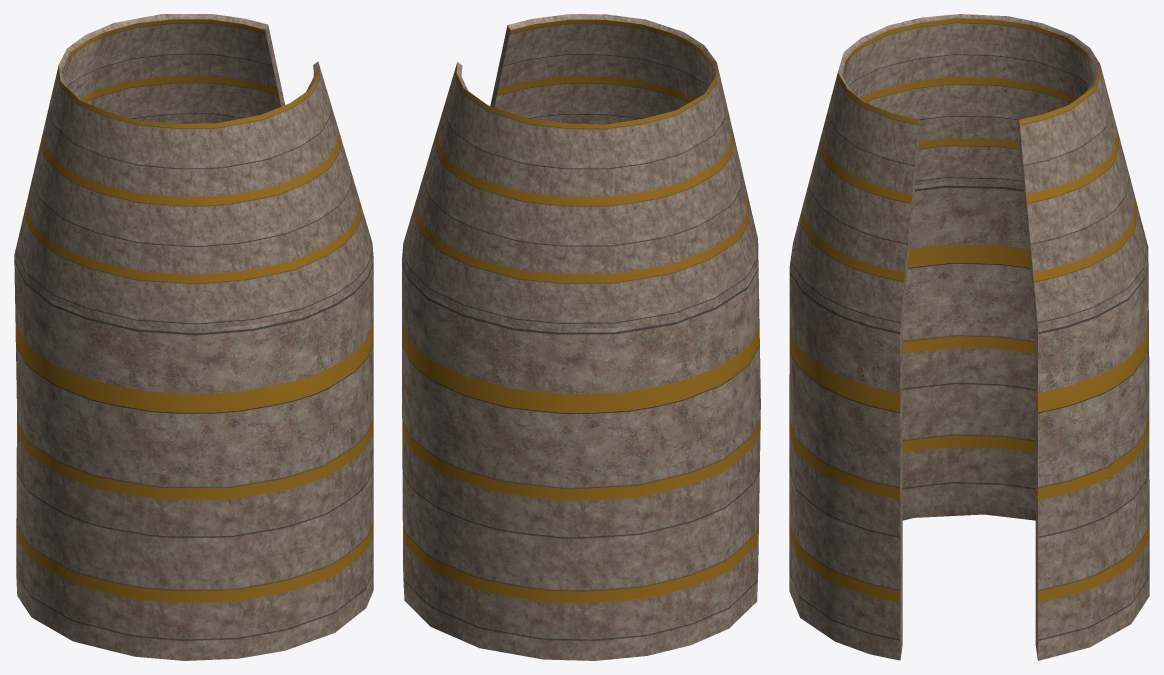
File: SM_Circular_Wall.gltf
3 renders of one model, left to right at view 1: azimuth 30°, elevation 25°; view 2: azimuth 150°, elevation 25°; view 3: azimuth 270°, elevation 25°, orthographic.
Parts seen in each view (by area): view 1: SM_WetHallProps_JFG_OuterWall_1_M_Trim_JFG_Rocks_Wet_0; view 2: SM_WetHallProps_JFG_OuterWall_1_M_Trim_JFG_Rocks_Wet_0; view 3: SM_WetHallProps_JFG_OuterWall_1_M_Trim_JFG_Rocks_Wet_0.
Boxes of the visible parts, left/top/right/bottom form: SM_WetHallProps_JFG_OuterWall_1_M_Trim_JFG_Rocks_Wet_0: left=14, top=14, right=373, bottom=660; SM_WetHallProps_JFG_OuterWall_1_M_Trim_JFG_Rocks_Wet_0: left=402, top=14, right=760, bottom=660; SM_WetHallProps_JFG_OuterWall_1_M_Trim_JFG_Rocks_Wet_0: left=789, top=14, right=1149, bottom=660.
Size of the model in its own units: 33.63 by 55.67 by 34.96.
Materials: 1 (1 with a texture image).
